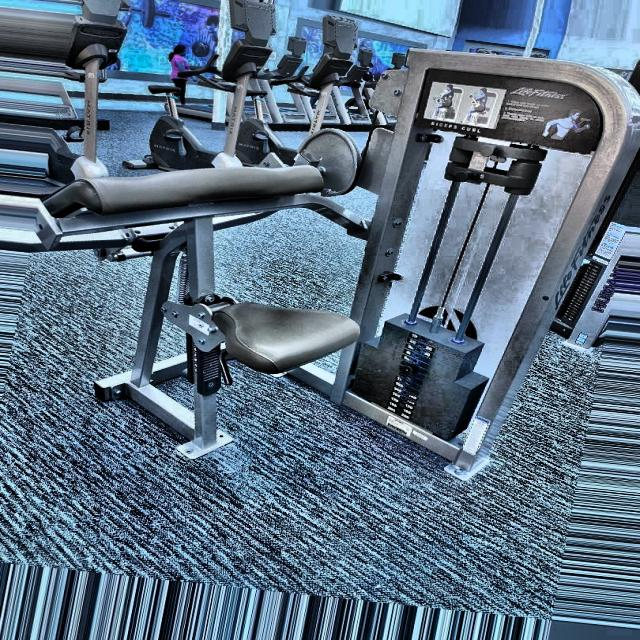bicep_curl_machine: (2, 46, 386, 459), (419, 68, 606, 155)
